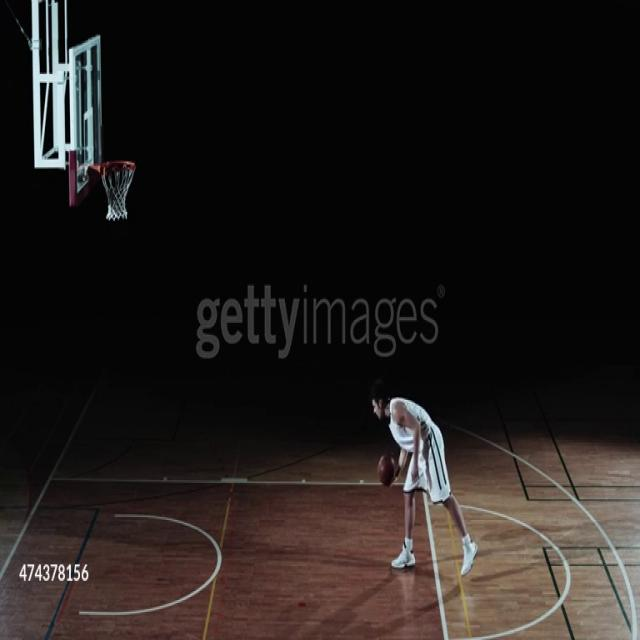ball: (377, 453, 396, 488)
